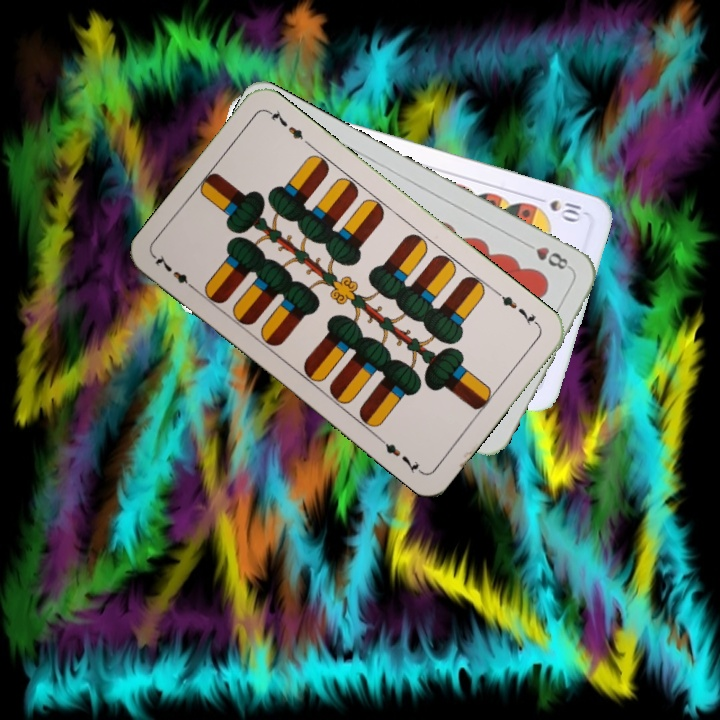E7: (150, 250, 200, 294), (492, 287, 542, 330)
H8: (519, 238, 574, 272)
S10: (530, 192, 585, 224)
